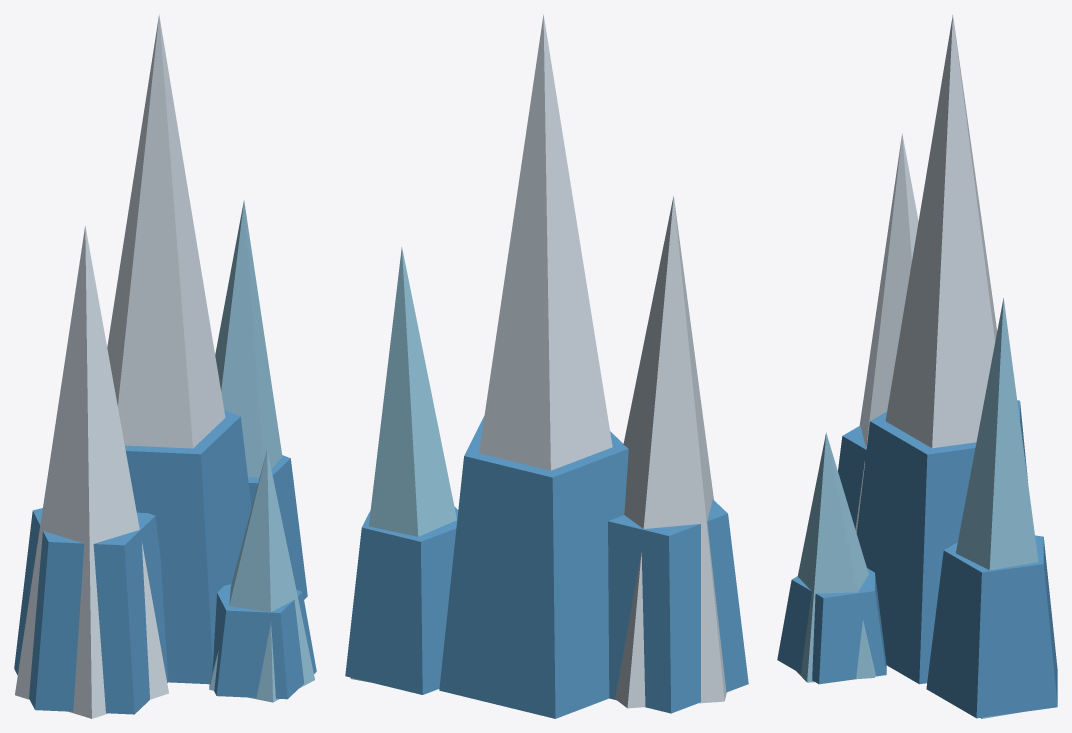
The model's file is Ice_Spire.glb.
The picture shows the model from 3 angles, left to right: view 1: azimuth 30°, elevation 25°; view 2: azimuth 150°, elevation 25°; view 3: azimuth 270°, elevation 25°; orthographic projection. The views are drawn at different scales.
Parts seen in each view (by area): view 1: Ice_Spire; view 2: Ice_Spire; view 3: Ice_Spire.
Part boxes in pixels (box(x1,y1,x2,y2)): Ice_Spire: box(14, 14, 316, 718); Ice_Spire: box(345, 14, 748, 718); Ice_Spire: box(777, 15, 1057, 718).
Size of the model in its own units: 3.2 by 6.02 by 2.43.
Materials: 1 (1 with a texture image).
